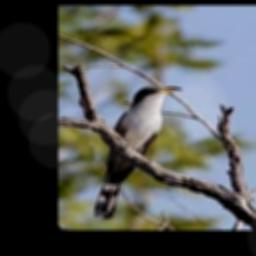Cuckoo: (94, 86, 182, 219)
